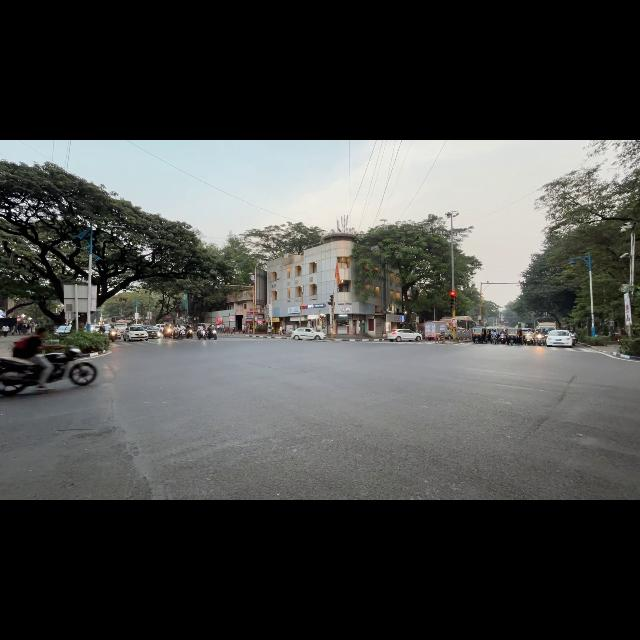bus: (455, 316, 475, 329)
car: (546, 330, 572, 347), (388, 329, 422, 341), (291, 328, 326, 339), (123, 325, 148, 340), (144, 326, 162, 338), (54, 325, 72, 337), (116, 323, 127, 333)
motorcycle: (45, 348, 97, 385), (534, 334, 545, 345), (163, 326, 173, 338), (173, 329, 183, 339), (208, 329, 217, 339), (109, 330, 117, 341), (186, 329, 194, 339), (197, 329, 205, 339), (499, 334, 506, 344), (571, 335, 577, 345), (491, 335, 497, 344)
truck: (535, 318, 557, 331)
